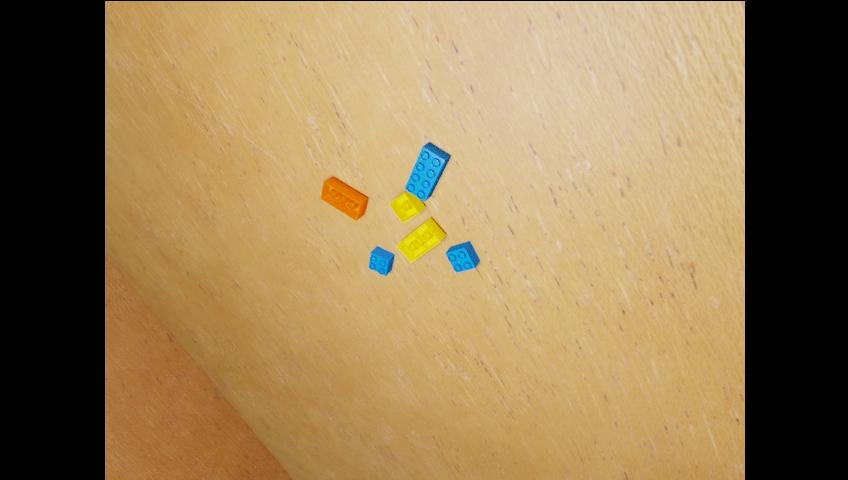2x2_blue: (445, 241, 480, 273), (369, 246, 394, 276)
2x2_yellow: (389, 191, 424, 223)
4x2_blue: (405, 142, 451, 202)
4x2_orange: (321, 177, 368, 221)
4x2_yellow: (397, 217, 445, 263)
